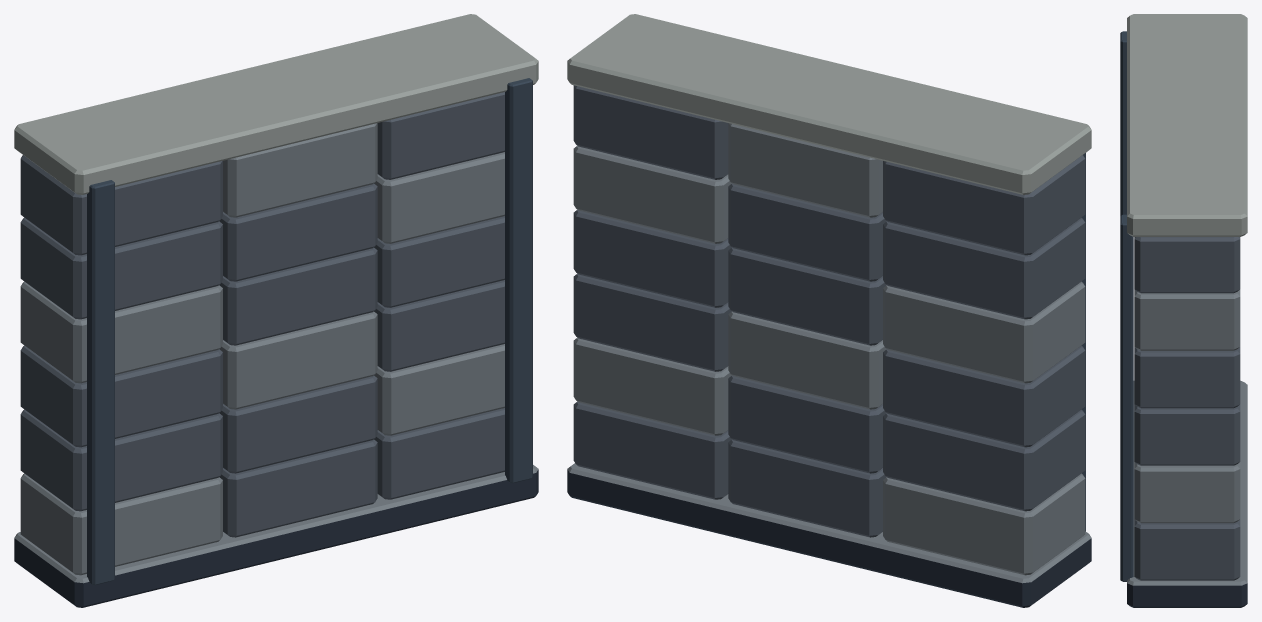
Rendered from wall-tall.glb.
The picture shows the model from 3 angles, left to right: view 1: azimuth 30°, elevation 25°; view 2: azimuth 150°, elevation 25°; view 3: azimuth 270°, elevation 25°; orthographic projection. The views are drawn at different scales.
Parts seen in each view (by area): view 1: wall-tall__body; view 2: wall-tall__body; view 3: wall-tall__body.
Part boxes in pixels (x1,y1,x2,y2): wall-tall__body: (14,14,538,607); wall-tall__body: (567,14,1091,607); wall-tall__body: (1120,14,1247,607).
Size of the model in its own units: 2 by 1.8 by 0.5275.
